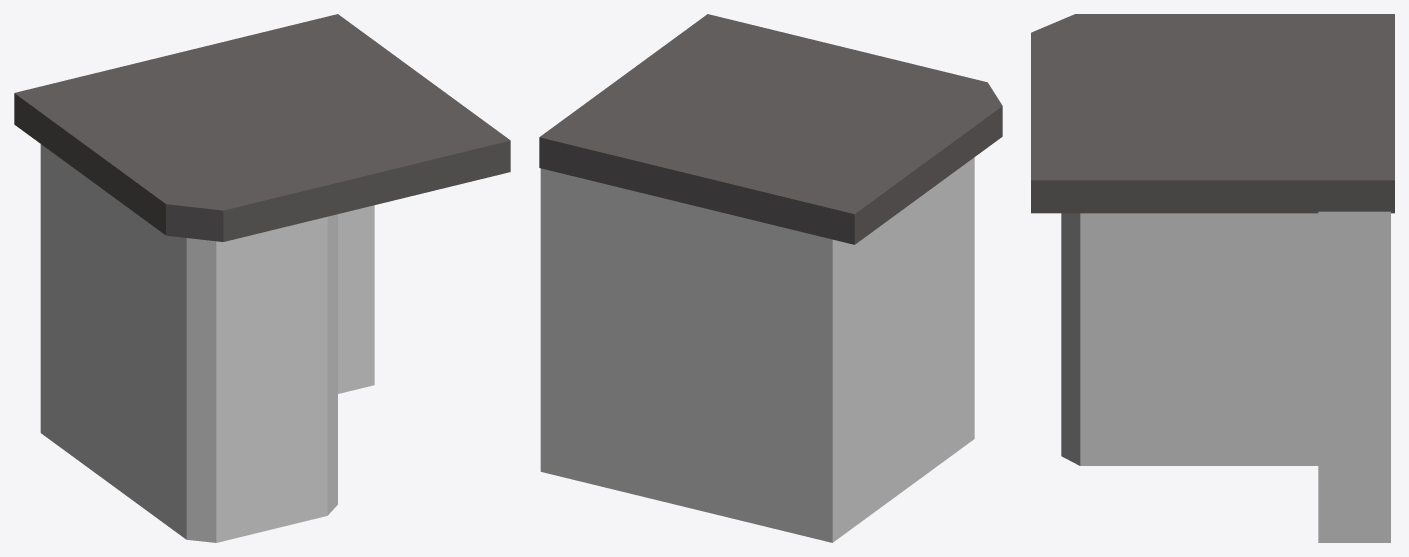
File: Mesa Modulo Final Esquerdo.fbx
3 renders of one model, left to right at view 1: azimuth 30°, elevation 25°; view 2: azimuth 150°, elevation 25°; view 3: azimuth 270°, elevation 25°, orthographic. The views are drawn at different scales.
Visible parts, largest first — view 1: Mesa Módulo Final Simples Esquerda; view 2: Mesa Módulo Final Simples Esquerda; view 3: Mesa Módulo Final Simples Esquerda.
Part boxes in pixels (x1,y1,x2,y2): Mesa Módulo Final Simples Esquerda: [14, 14, 510, 542]; Mesa Módulo Final Simples Esquerda: [539, 14, 1002, 542]; Mesa Módulo Final Simples Esquerda: [1031, 14, 1394, 542].
Size of the model in its own units: 108 by 110 by 100.
